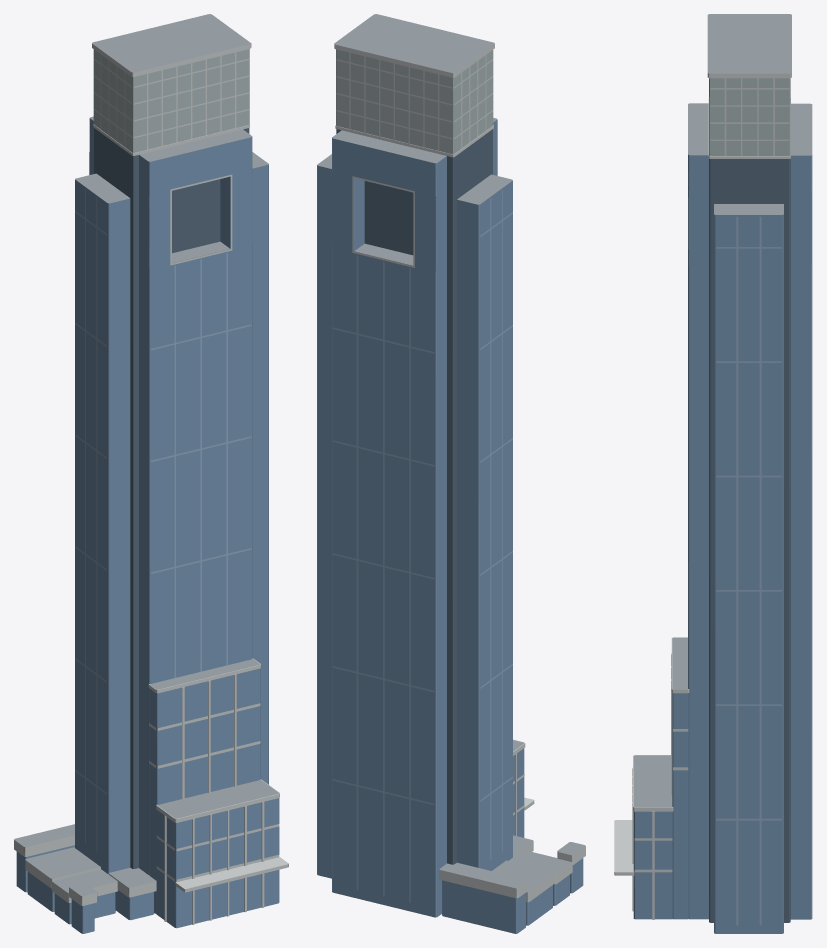
Rendered from phl-comcast-center.glb.
The picture shows the model from 3 angles, left to right: view 1: azimuth 30°, elevation 25°; view 2: azimuth 150°, elevation 25°; view 3: azimuth 270°, elevation 25°; orthographic projection. The views are drawn at different scales.
Visible parts, largest first — view 1: Comcast Center; view 2: Comcast Center; view 3: Comcast Center.
Part boxes in pixels (x1,y1,x2,y2): Comcast Center: (14,14,288,933); Comcast Center: (317,14,585,933); Comcast Center: (614,14,812,933).
Bounding box in the file's own units: 78.95 × 297 × 62.78.
